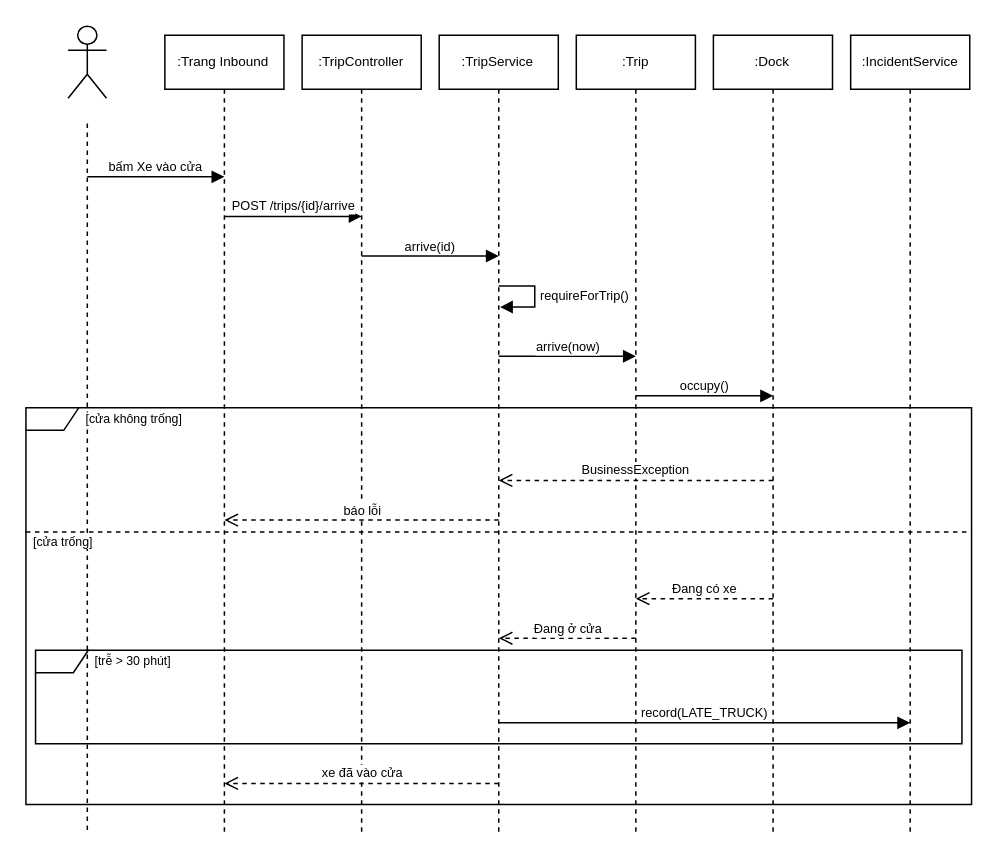
Image size: 1001x863. Some labels were removed from this diagram. Here are the shapes that lost their labels. From the top down, the box of each, then its label:
(67, 25, 106, 98): NV Inbound
(24, 406, 972, 804): alt
(34, 649, 962, 744): opt
